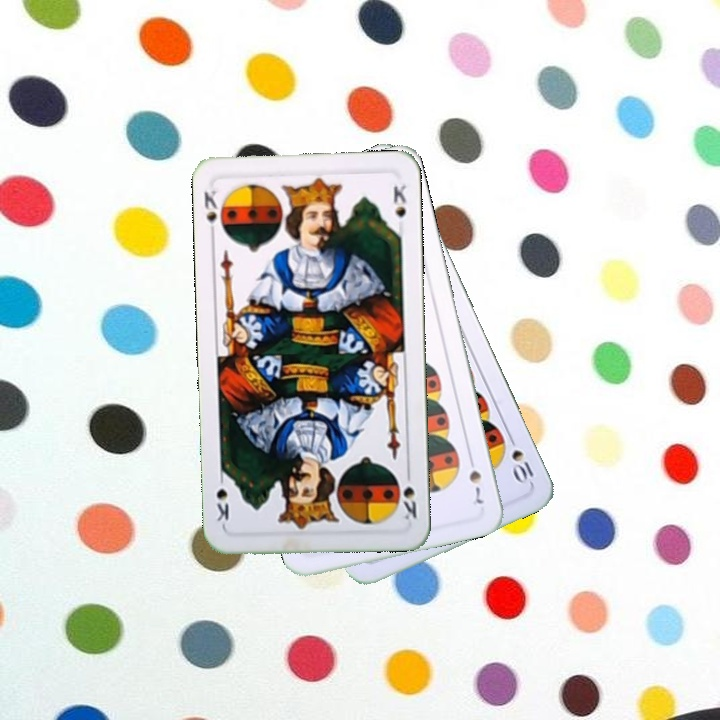S10: (504, 430, 536, 487)
S7: (465, 451, 486, 507)
SK: (199, 186, 221, 240), (399, 465, 419, 522)
